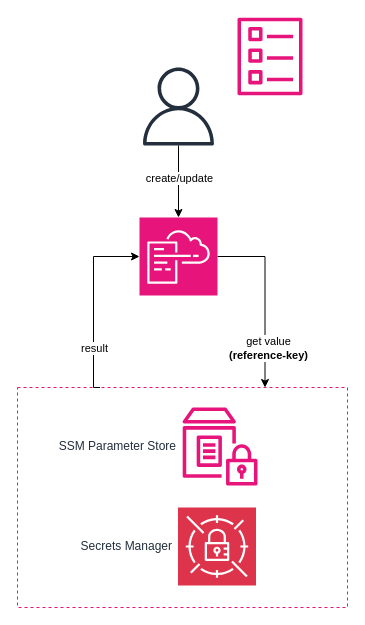
The diagram is 365 pixels wide and 625 high, and some of its shapes have lost their labels. The box of each missing label's shape, as (x1, y1, x2, y2) in pixels:
CloudFormation: (138, 216, 218, 296)
Template: (237, 17, 302, 95)
